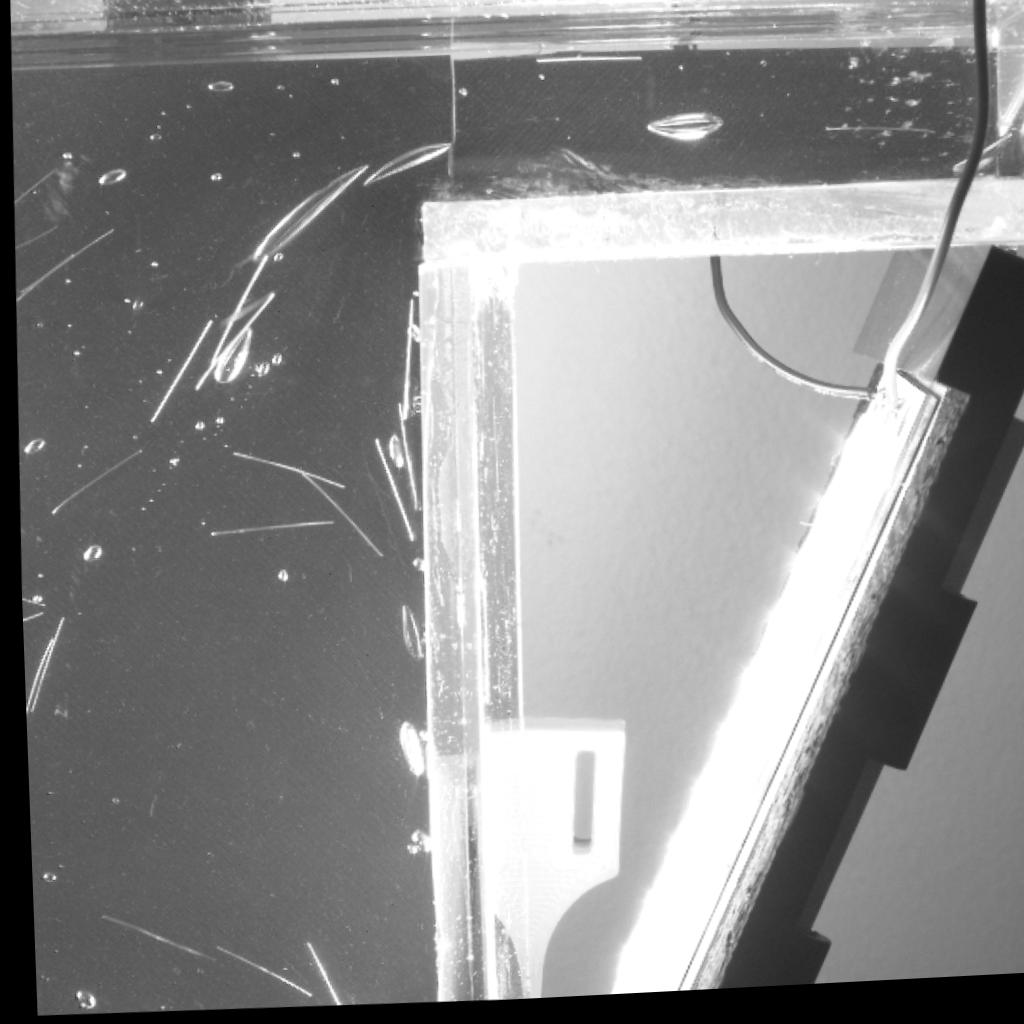Fiber: (186, 291, 279, 393), (14, 220, 117, 306), (202, 253, 272, 368), (292, 473, 382, 562), (44, 441, 145, 519), (141, 316, 211, 428), (91, 910, 212, 968), (204, 941, 304, 1001), (223, 449, 348, 495), (364, 439, 414, 547), (21, 614, 61, 714), (293, 941, 340, 1008), (389, 403, 417, 515), (11, 156, 63, 207), (20, 634, 50, 713), (819, 129, 935, 149), (395, 298, 413, 425), (203, 522, 331, 539), (534, 57, 645, 75), (12, 219, 61, 253), (17, 589, 45, 610), (18, 606, 41, 625)
